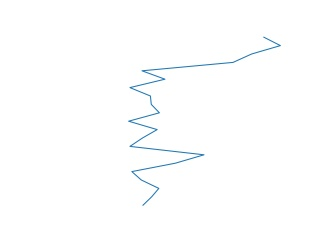crevasseRiverChannelBar: (126, 35, 284, 211)
